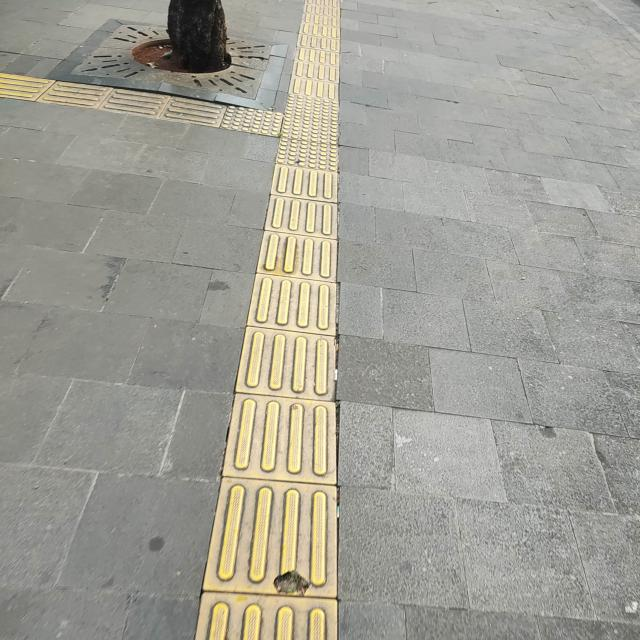lurus: (245, 144, 341, 640), (296, 0, 340, 110)
